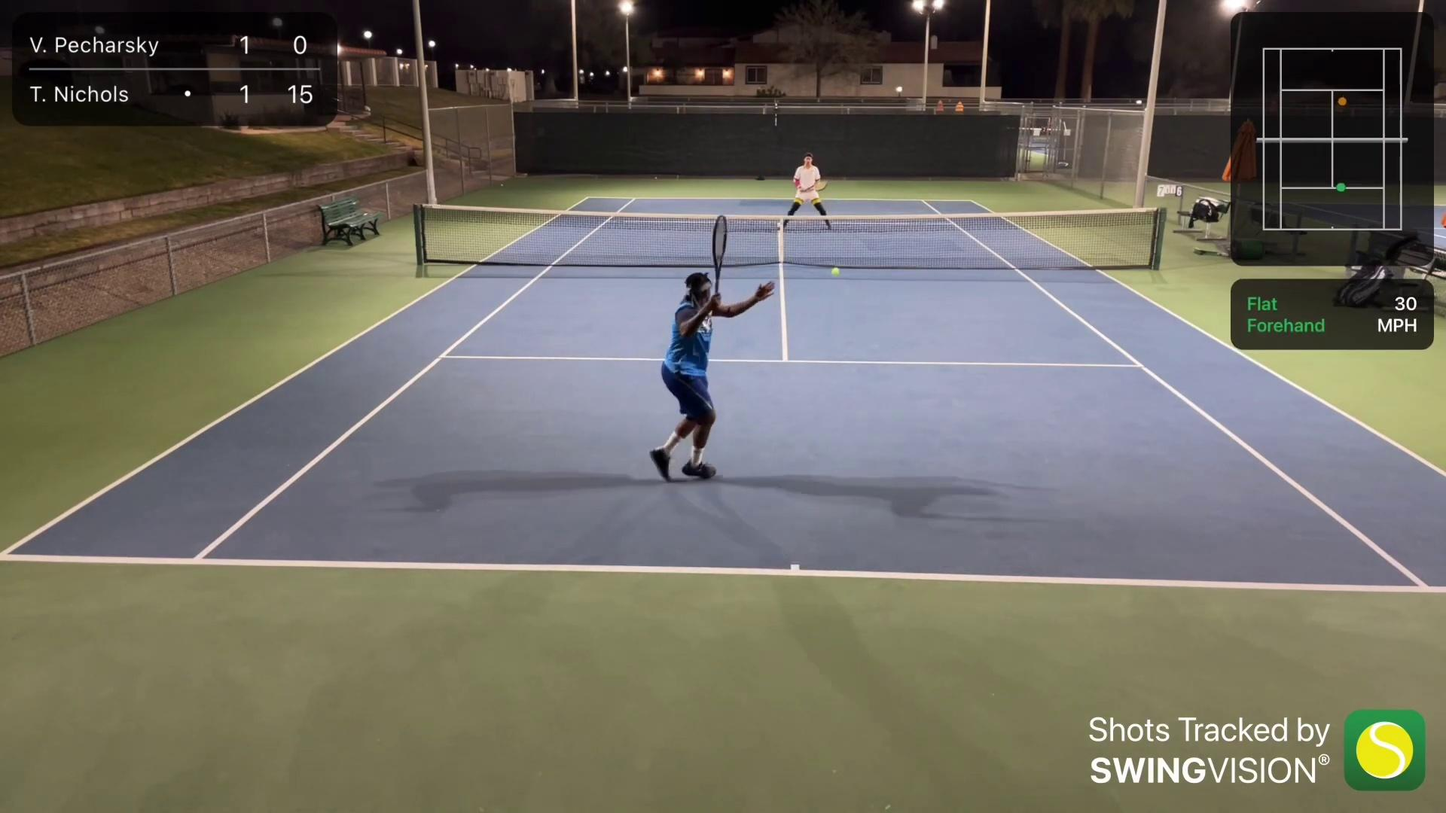ball: (828, 266, 842, 278)
